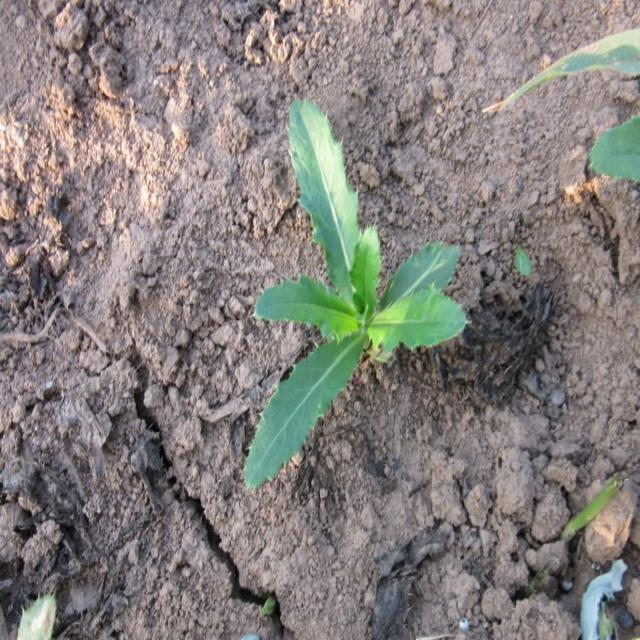cs: (242, 94, 468, 492)
